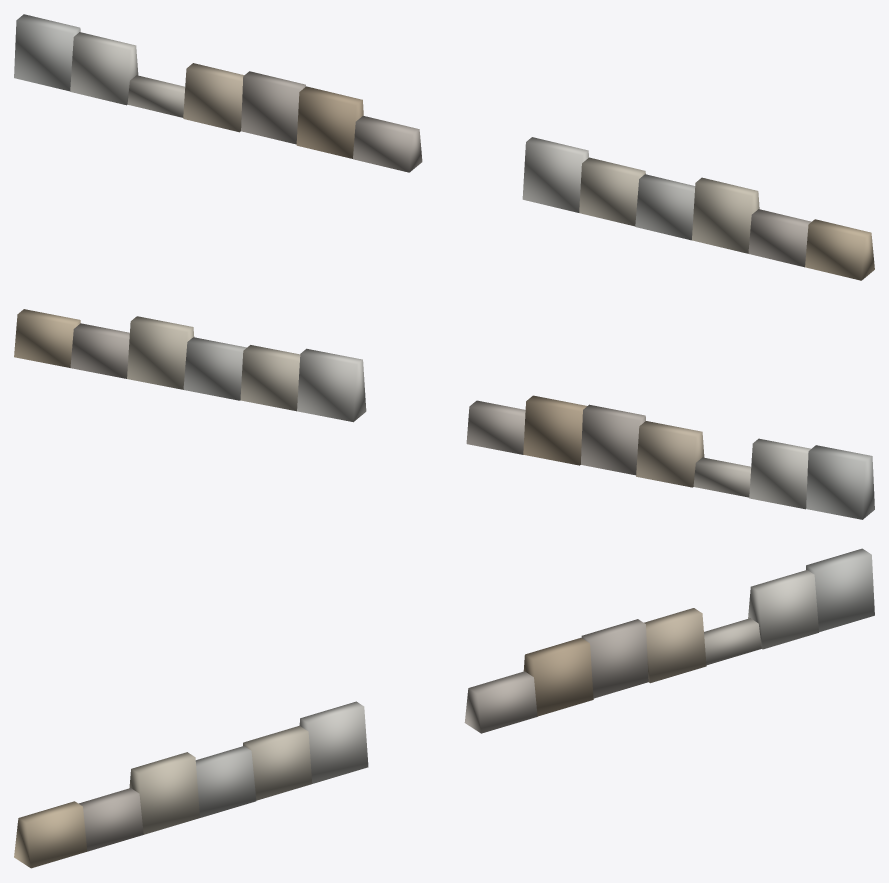
File: farm_23_19_collision.glb
3 renders of one model, top to bottom at view 1: azimuth 30°, elevation 25°; view 2: azimuth 210°, elevation 25°; view 3: azimuth 270°, elevation 25°, orthographic. The views are drawn at different scales.
Visible parts, largest first — view 1: geometry_0; view 2: geometry_0; view 3: geometry_0.
Part boxes in pixels (x1=…): geometry_0: x1=14, y1=14, x2=874, y2=280; geometry_0: x1=14, y1=309, x2=874, y2=519; geometry_0: x1=14, y1=548, x2=874, y2=868.
Bounding box in the file's own units: 13.44 × 2.06 × 20.18.
